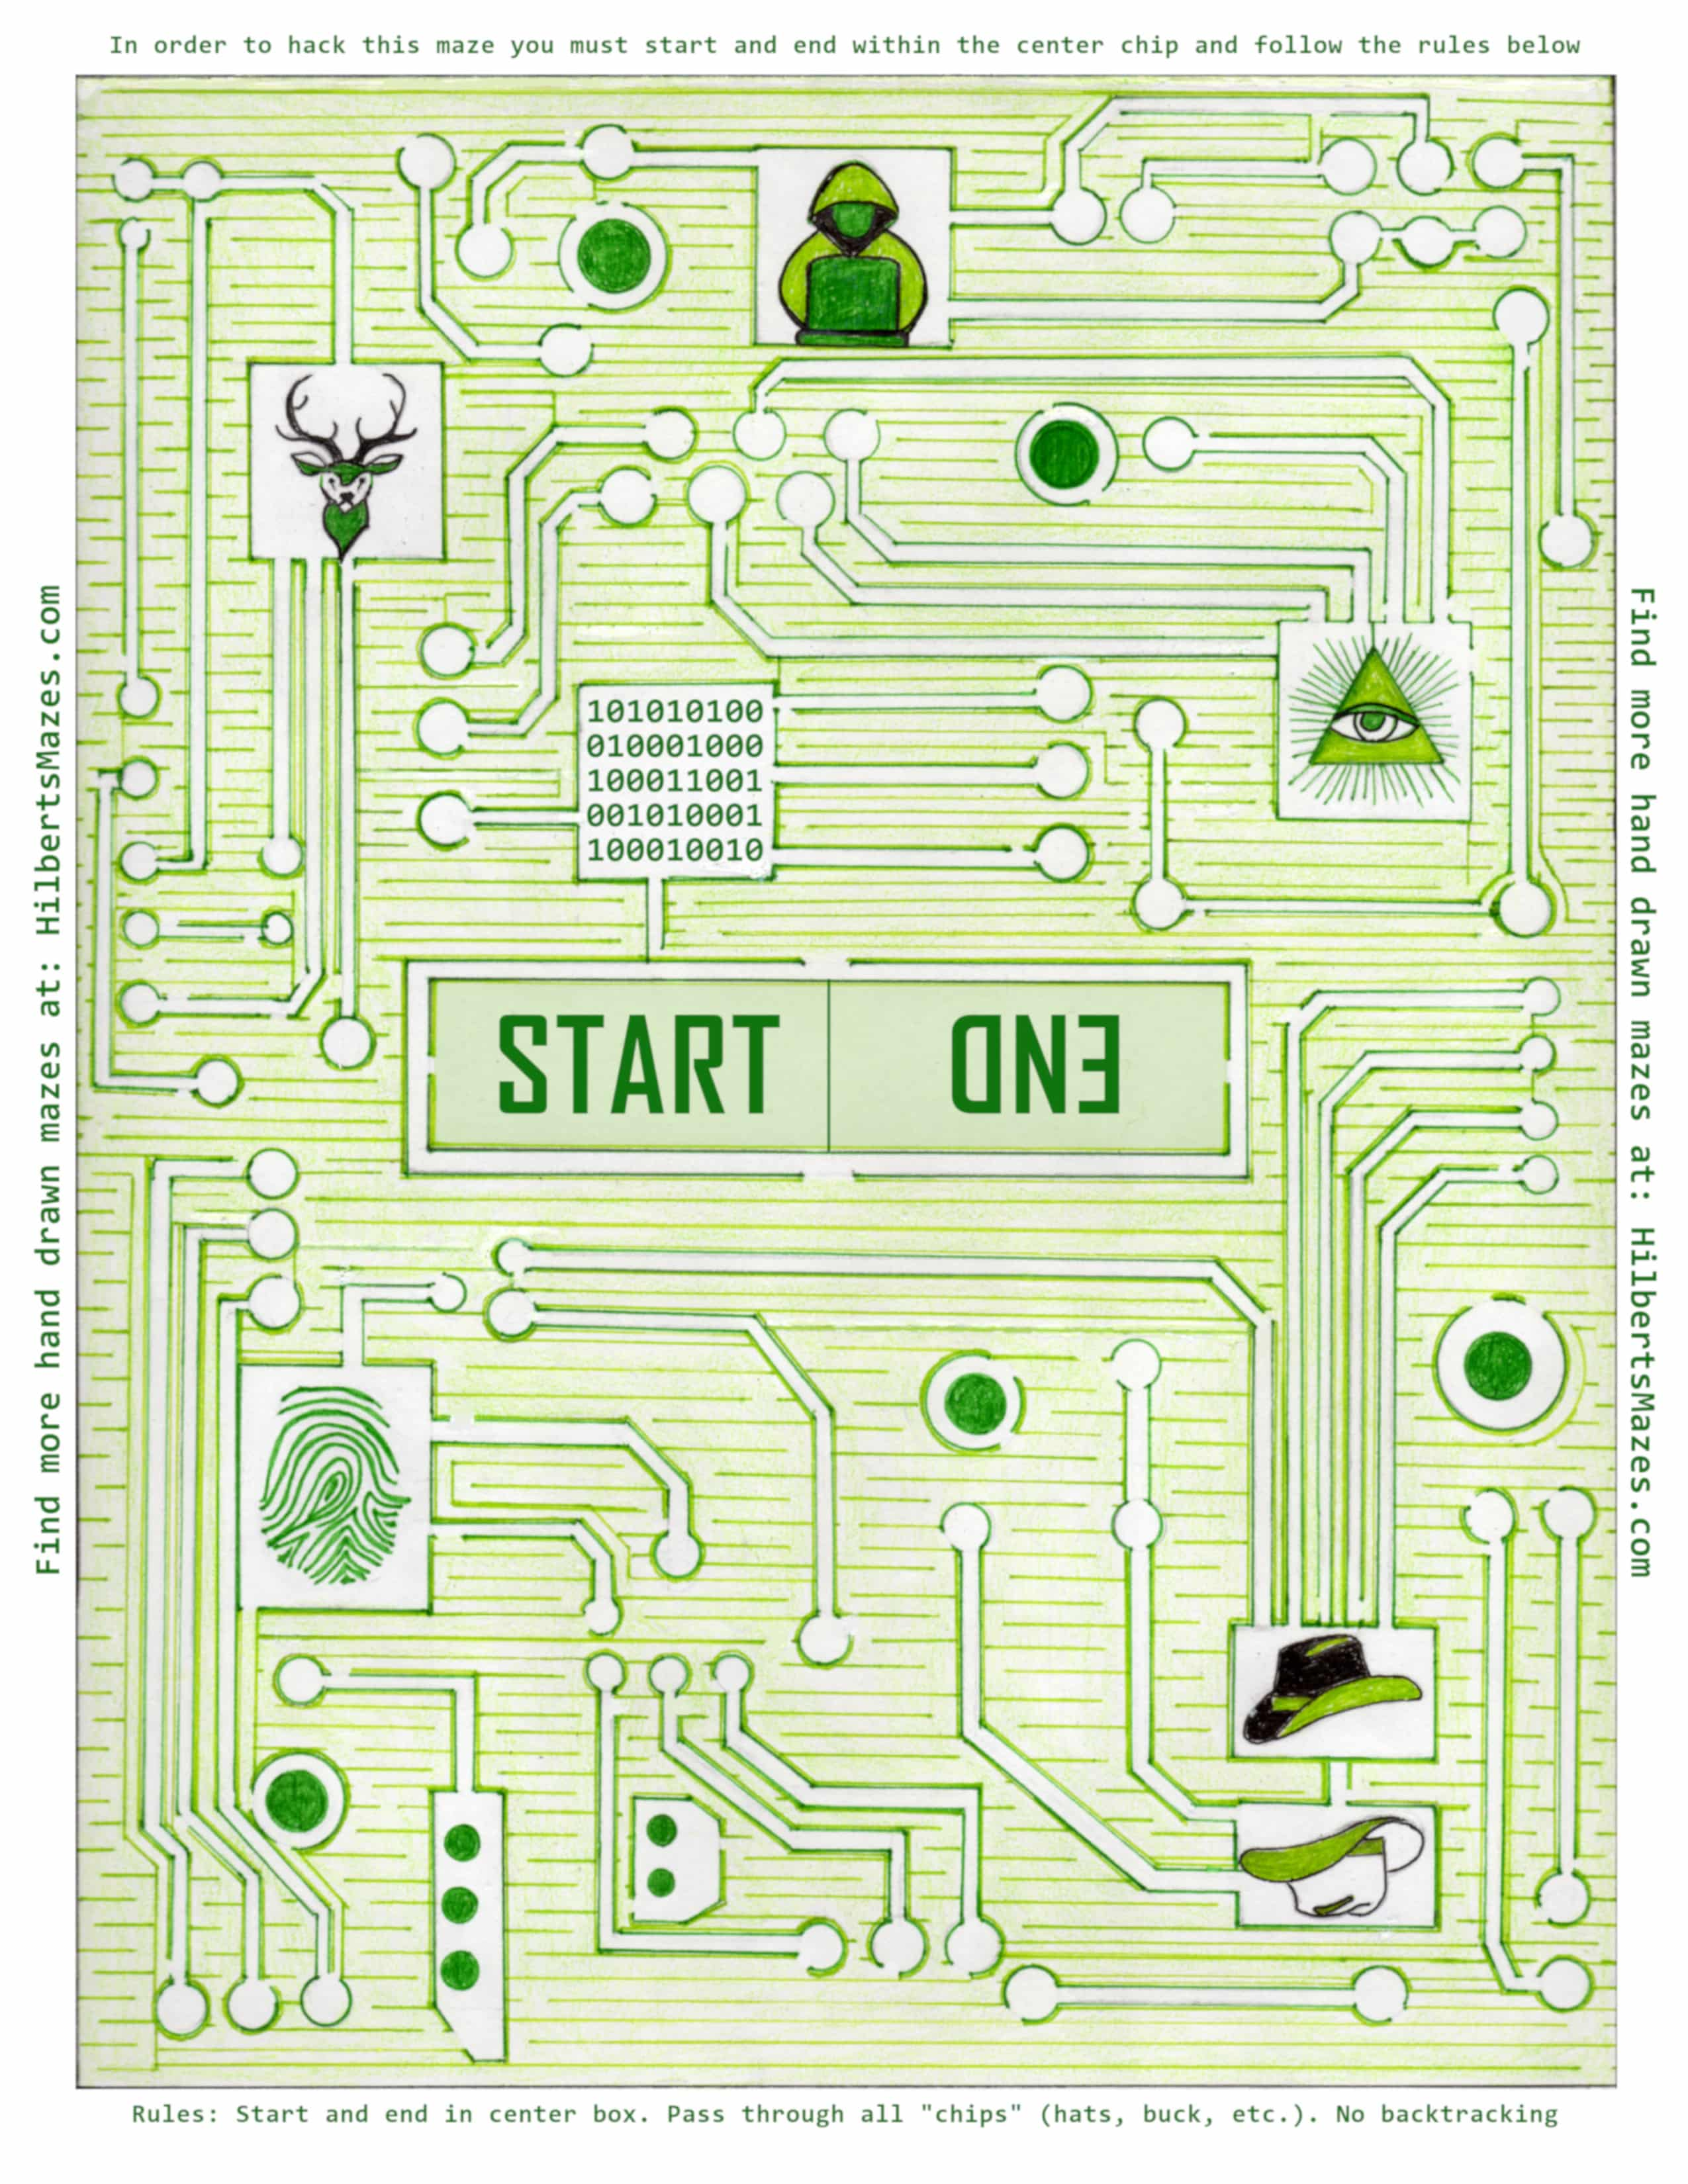maze: (71, 92, 1629, 2094)
